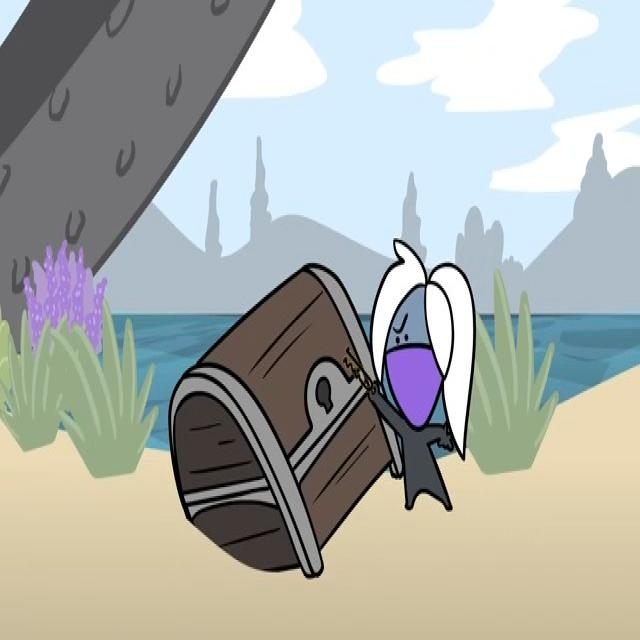miss Demeanor: (368, 238, 477, 511)
